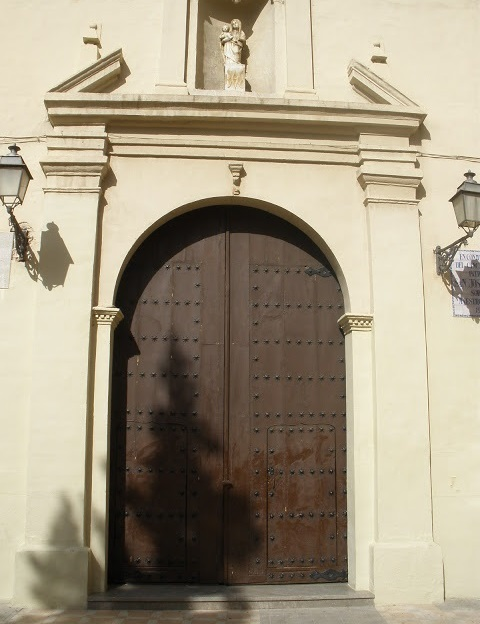arco-medio-punto: (99, 185, 363, 350)
fronton-partido: (44, 45, 430, 133)
